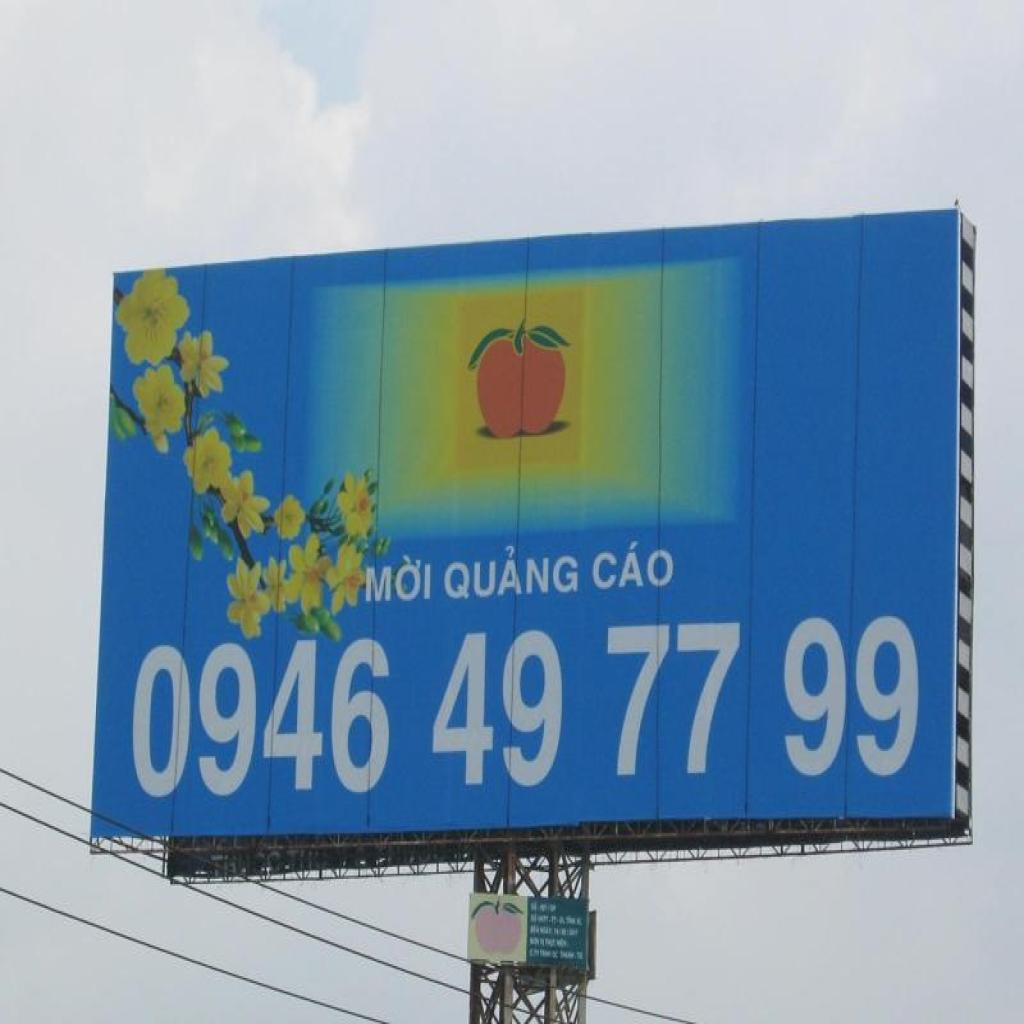text: (127, 611, 924, 806), (443, 543, 581, 604), (592, 540, 678, 598), (364, 553, 432, 606)
